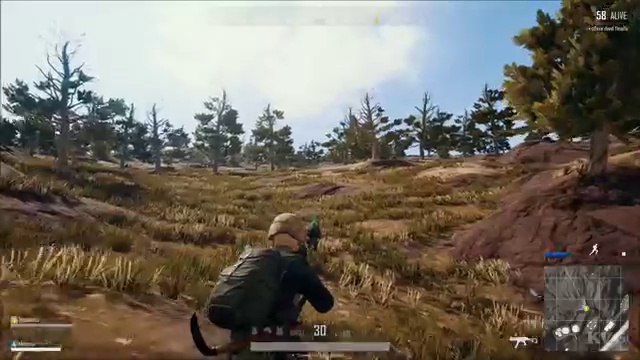Player: (180, 207, 378, 317)
